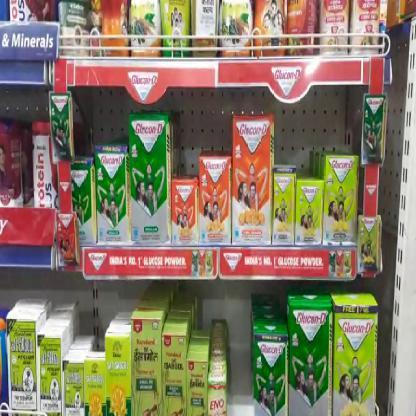Glucon D Nimbu Pani 1-KG: (333, 306, 379, 415), (323, 152, 357, 244)
